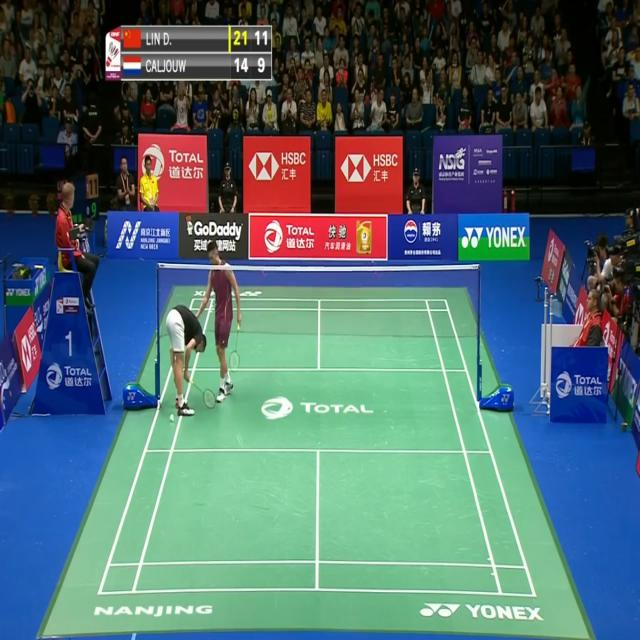Player1: (156, 302, 220, 423)
Player2: (191, 234, 244, 406)
